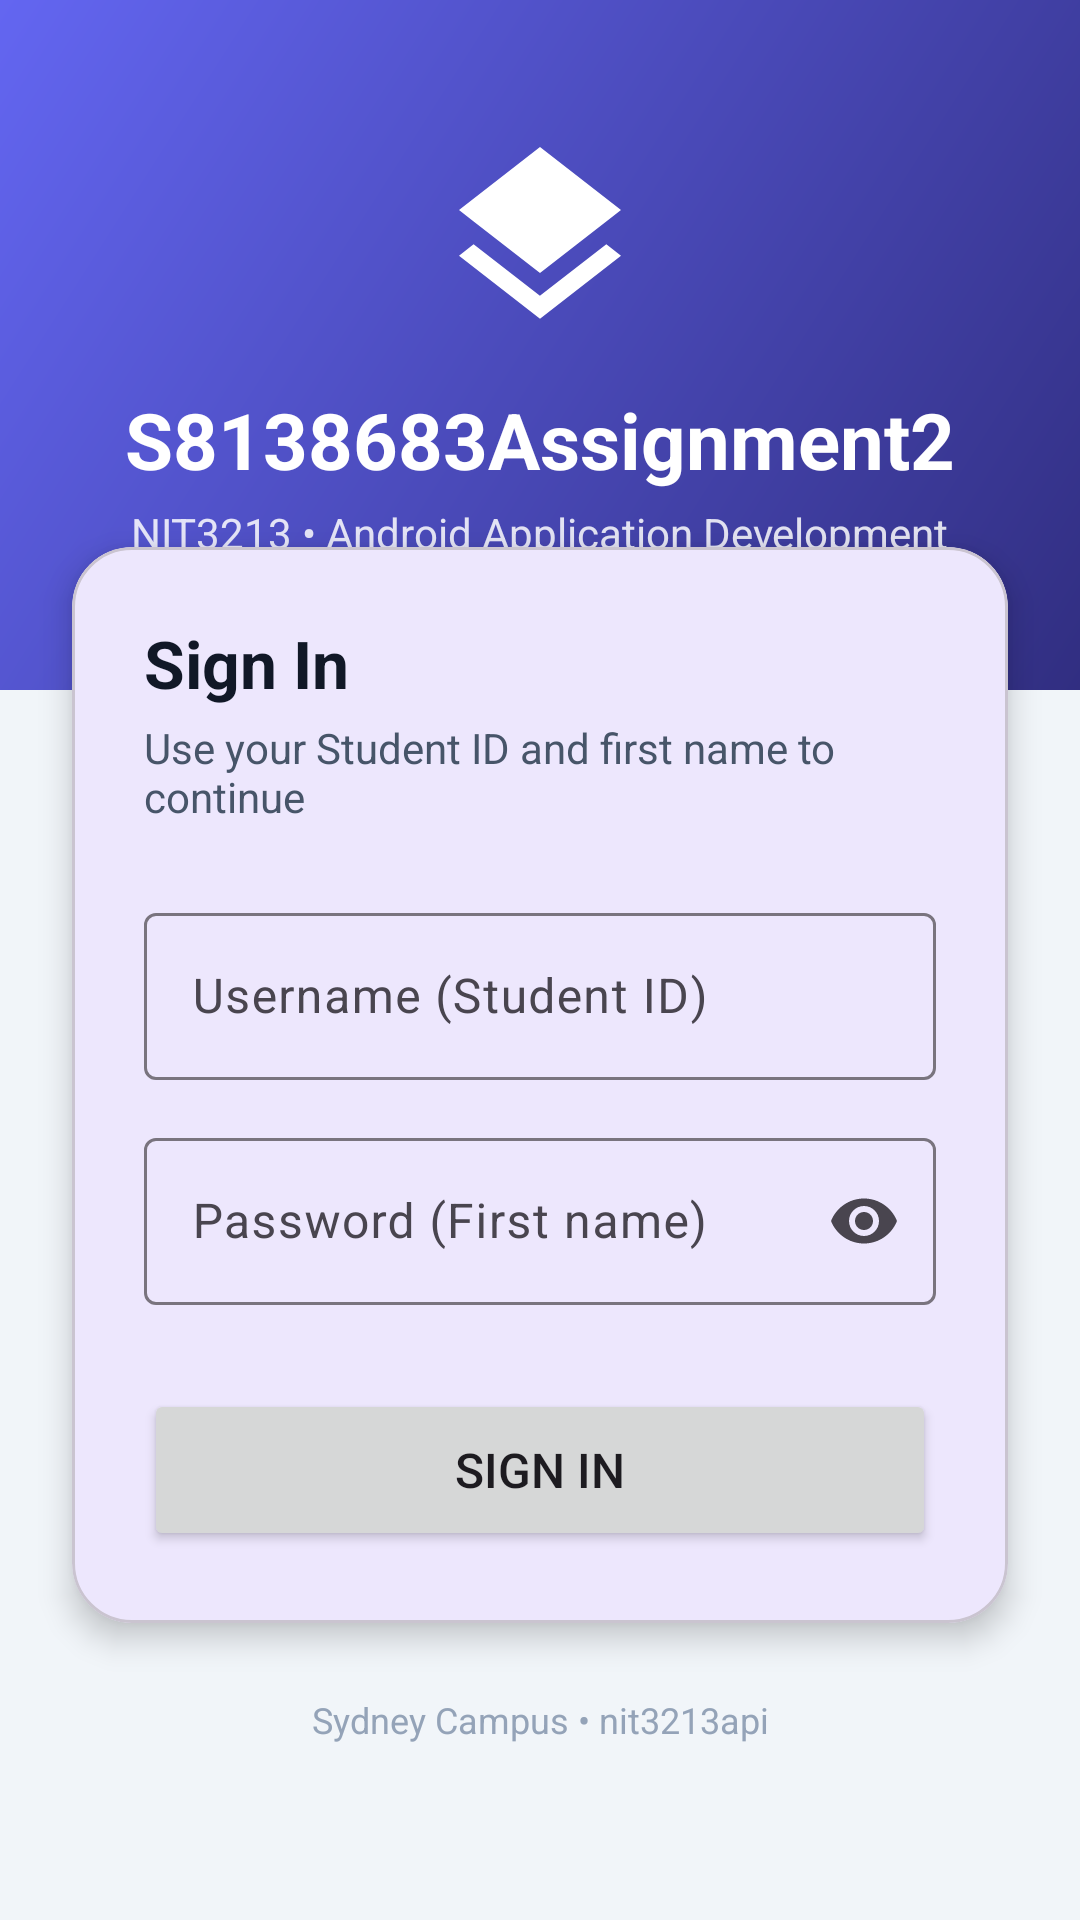

Point at icon controls on the screen. Image size 1080 x 1920, points as (x,y).
layers: (540,233)
